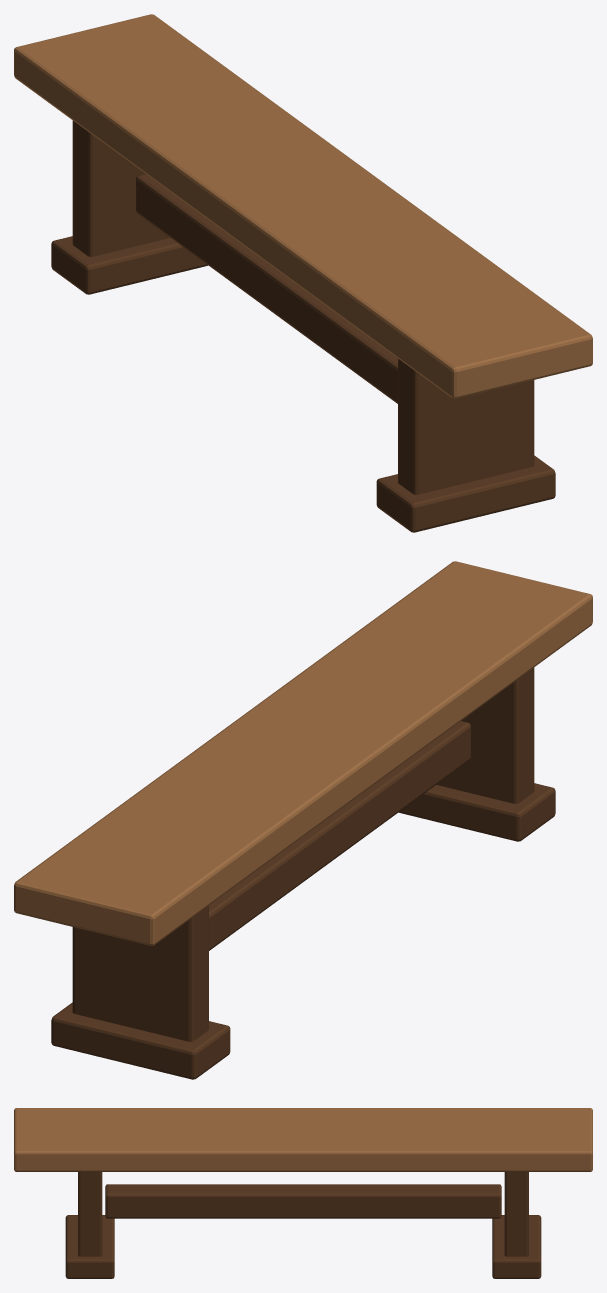
File: hall-bench.glb
3 views of the same model, one above another, from view 1: azimuth 30°, elevation 25°; view 2: azimuth 150°, elevation 25°; view 3: azimuth 270°, elevation 25° (orthographic). The views are drawn at different scales.
Parts seen in each view (by area): view 1: HallBench; view 2: HallBench; view 3: HallBench.
Part boxes in pixels (<box>): HallBench: <box>14,14,592,532</box>; HallBench: <box>14,561,592,1079</box>; HallBench: <box>14,1108,592,1278</box>.
Bounding box in the file's own units: 0.36 × 0.46 × 1.9.
